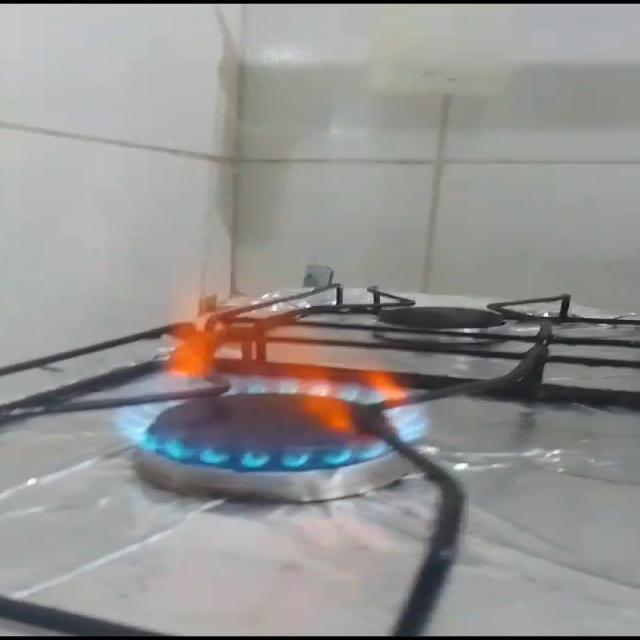fogo-ypXI: (103, 279, 433, 476)
